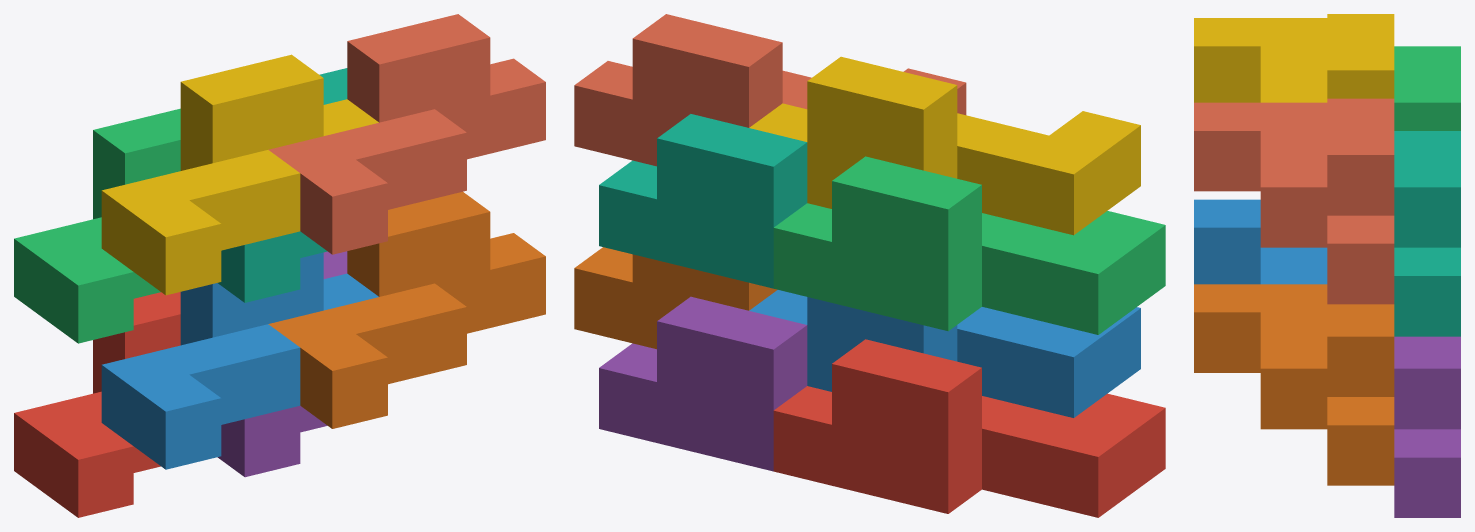
File: tiling.obj
3 renders of one model, left to right at view 1: azimuth 30°, elevation 25°; view 2: azimuth 150°, elevation 25°; view 3: azimuth 270°, elevation 25°, orthographic. The views are drawn at different scales.
Visible parts, largest first — view 1: copy_1_domain_8, copy_1_domain_6, copy_1_domain_4, copy_1_domain_2, copy_1_domain_3, copy_1_domain_1, copy_1_domain_7, copy_1_domain_5; view 2: copy_1_domain_1, copy_1_domain_3, copy_1_domain_4, copy_1_domain_5, copy_1_domain_7, copy_1_domain_2, copy_1_domain_8, copy_1_domain_6; view 3: copy_1_domain_8, copy_1_domain_6, copy_1_domain_4, copy_1_domain_7, copy_1_domain_5, copy_1_domain_2, copy_1_domain_3.
Boxes of the visible parts, <box> form: copy_1_domain_8: <box>268,14,545,254</box>; copy_1_domain_6: <box>268,191,545,428</box>; copy_1_domain_4: <box>101,54,378,295</box>; copy_1_domain_2: <box>101,252,378,469</box>; copy_1_domain_3: <box>14,108,180,343</box>; copy_1_domain_1: <box>14,292,180,517</box>; copy_1_domain_7: <box>218,68,347,302</box>; copy_1_domain_5: <box>217,251,347,477</box>; copy_1_domain_1: <box>773,339,1165,517</box>; copy_1_domain_3: <box>773,156,1165,334</box>; copy_1_domain_4: <box>749,56,1140,235</box>; copy_1_domain_5: <box>599,296,807,471</box>; copy_1_domain_7: <box>599,114,807,288</box>; copy_1_domain_2: <box>749,290,1140,417</box>; copy_1_domain_8: <box>574,14,966,166</box>; copy_1_domain_6: <box>574,247,777,349</box>; copy_1_domain_8: <box>1194,98,1394,304</box>; copy_1_domain_6: <box>1194,284,1394,485</box>; copy_1_domain_4: <box>1194,14,1394,102</box>; copy_1_domain_7: <box>1394,131,1460,336</box>; copy_1_domain_5: <box>1394,336,1460,517</box>; copy_1_domain_2: <box>1194,199,1327,284</box>; copy_1_domain_3: <box>1394,46,1460,130</box>.
Bounding box in the file's own units: 9 × 6 × 4.
